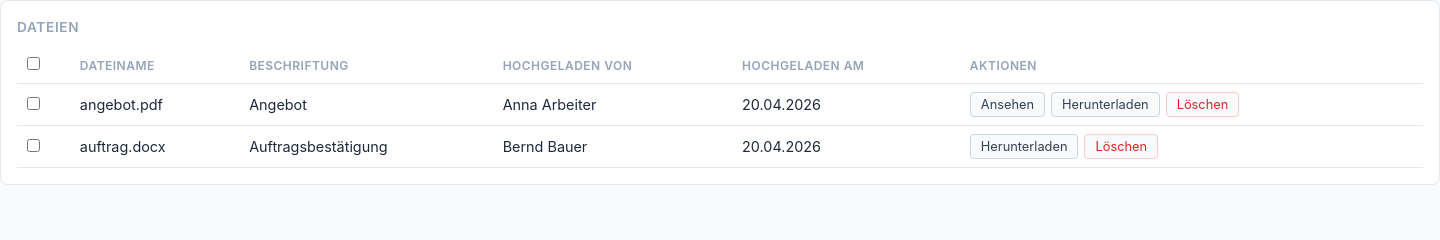
Scenario: BinaryList — Auswahl als ZIP triggers bulk-fetch (AC-223) › shows Auswahl als ZIP only once at least one row is selected
The width and height of the screenshot is (1440, 240).
Click the checkbox named "angebot.pdf" at (34,104), box [27,97,40,110]
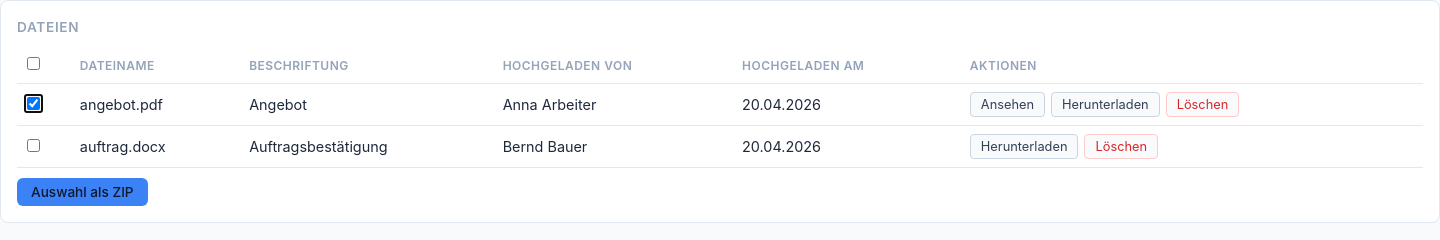
Expected: the button with test id "binary-bulk-download" is shown, [17,178,148,206]
